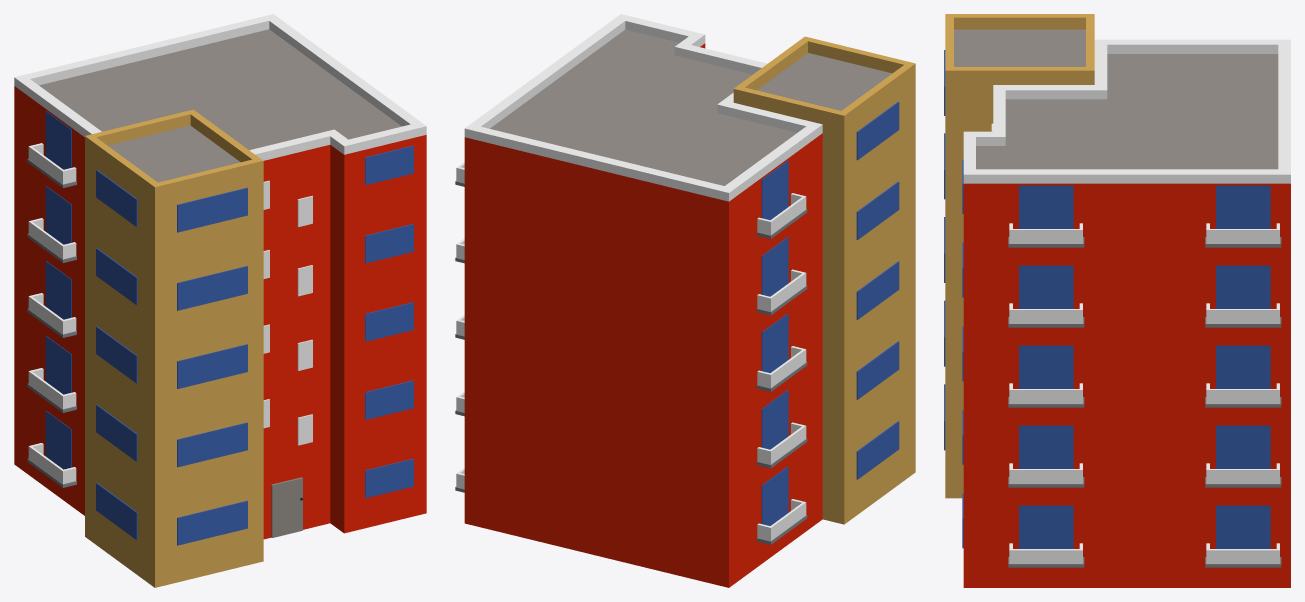
File: Apartment_2.fbx
3 views of the same model, side by side, from view 1: azimuth 30°, elevation 25°; view 2: azimuth 150°, elevation 25°; view 3: azimuth 270°, elevation 25° (orthographic). The views are drawn at different scales.
Visible parts, largest first — view 1: Apartment_2; view 2: Apartment_2; view 3: Apartment_2.
Boxes of the visible parts, box(x1,y1,x2,y2) form: Apartment_2: box(14, 14, 426, 587); Apartment_2: box(455, 14, 915, 587); Apartment_2: box(944, 14, 1290, 587).
Bounding box in the file's own units: 1328 × 1723 × 1266.
